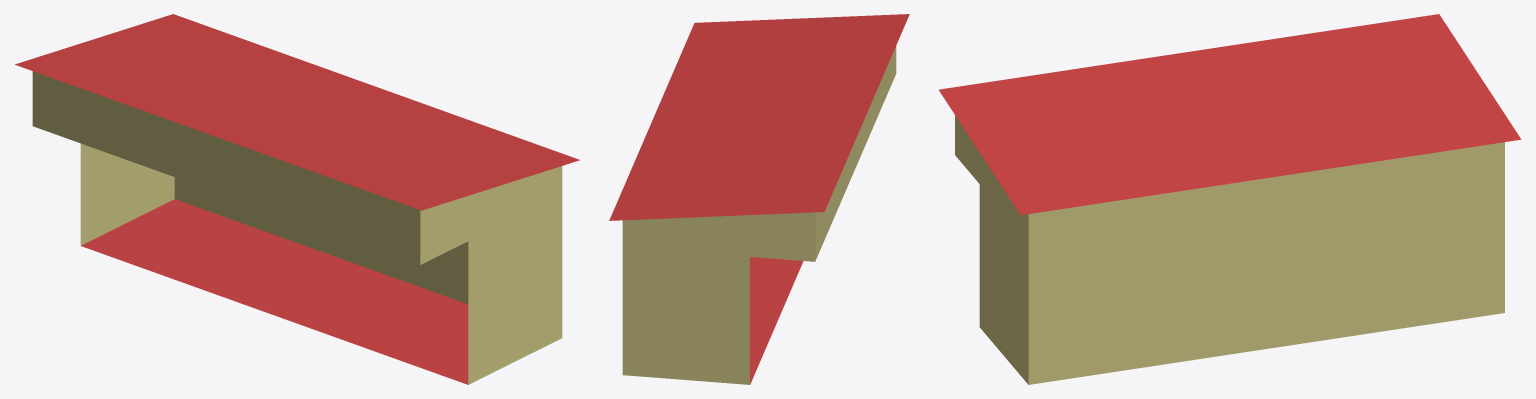
The picture shows the model from 3 angles, left to right: view 1: azimuth 30°, elevation 25°; view 2: azimuth 150°, elevation 25°; view 3: azimuth 270°, elevation 25°; orthographic projection. The views are drawn at different scales.
Size of the model in its own units: 23.83 by 33.96 by 13.17.
